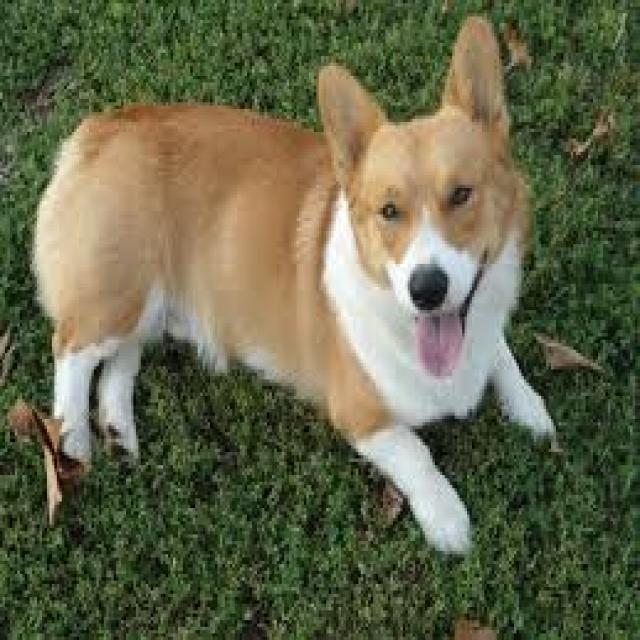CORGI: (31, 9, 563, 575)
